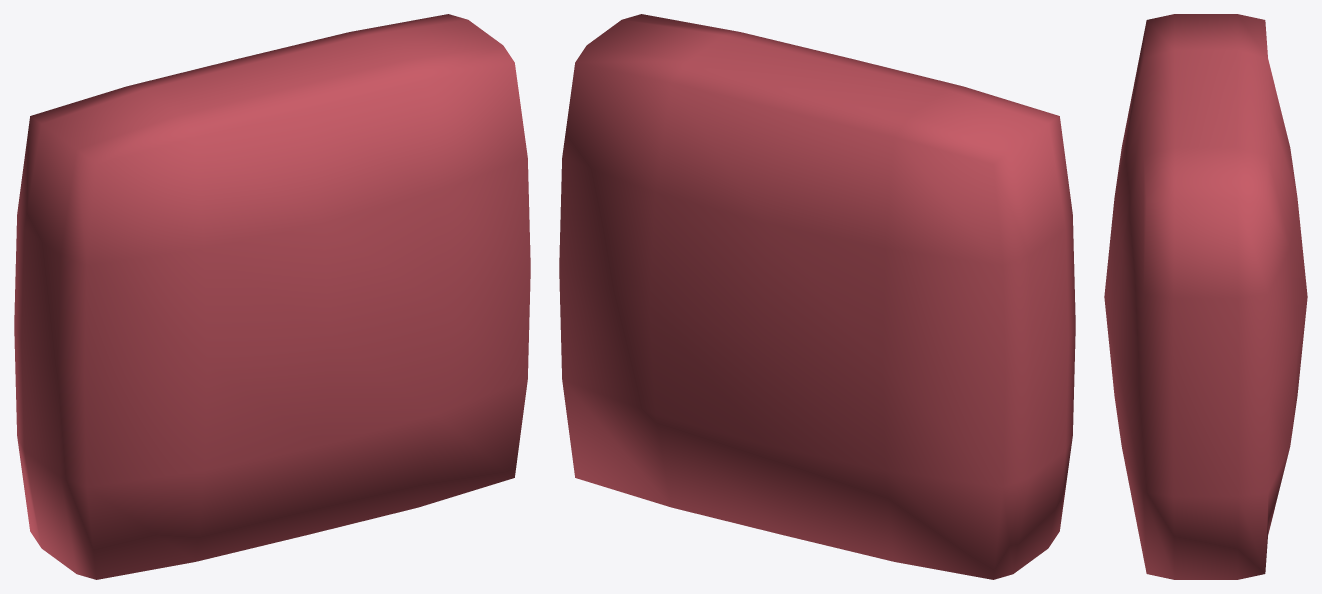
File: throw_pillow.fbx
3 renders of one model, left to right at view 1: azimuth 30°, elevation 25°; view 2: azimuth 150°, elevation 25°; view 3: azimuth 270°, elevation 25°, orthographic. The views are drawn at different scales.
Parts seen in each view (by area): view 1: throw_pillow; view 2: throw_pillow; view 3: throw_pillow.
Part boxes in pixels (box(x1,y1,x2,y2)): throw_pillow: box(14, 14, 530, 579); throw_pillow: box(559, 14, 1075, 579); throw_pillow: box(1104, 14, 1307, 579).
Size of the model in its own units: 0.462 by 0.42 by 0.1953.
Materials: 1 (1 with a texture image).
